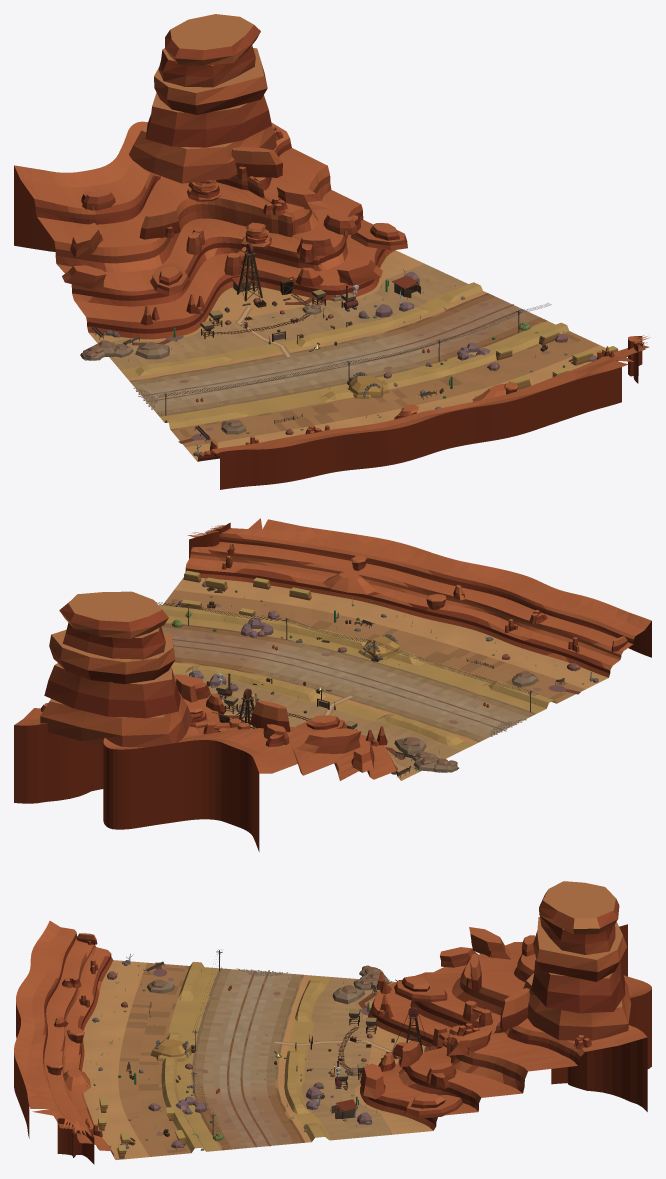
The model's file is chunk_section1_c.glb.
3 renders of one model, top to bottom at view 1: azimuth 30°, elevation 25°; view 2: azimuth 150°, elevation 25°; view 3: azimuth 270°, elevation 25°, orthographic. The views are drawn at different scales.
Parts seen in each view (by area): view 1: chunk_section1_c; view 2: chunk_section1_c; view 3: chunk_section1_c.
Boxes of the visible parts, x1,y1,x2,y2 form: chunk_section1_c: (14,14,649,489); chunk_section1_c: (14,518,651,851); chunk_section1_c: (14,881,651,1164).
Bounding box in the file's own units: 449 × 181 × 576.
